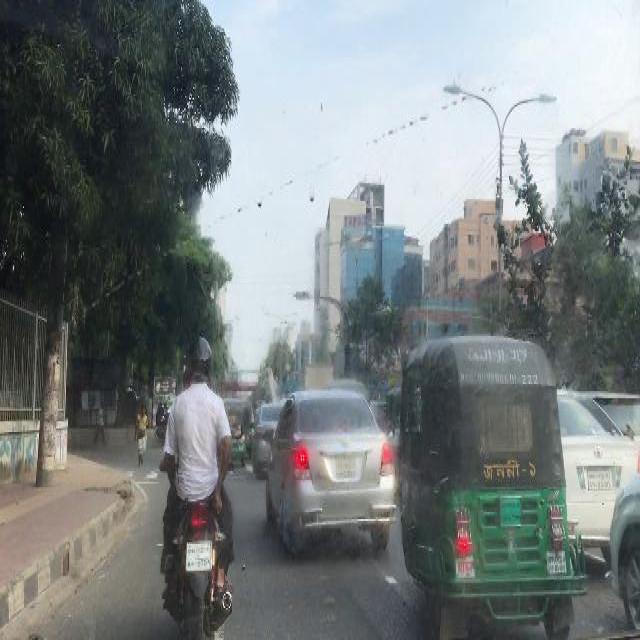car: (277, 395, 394, 549), (254, 403, 280, 473)
motorcycle: (400, 330, 569, 634), (155, 484, 236, 638), (226, 398, 247, 469)
